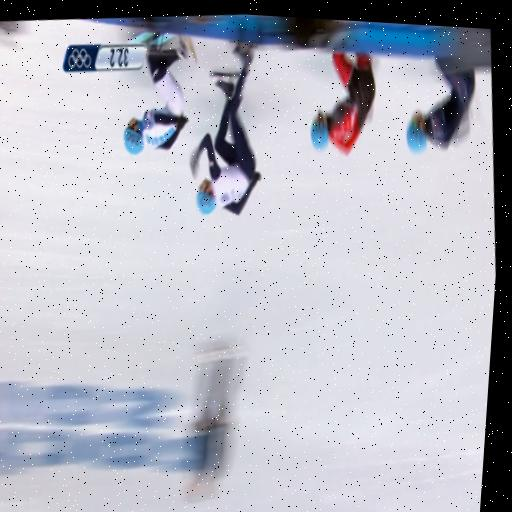Skater: (189, 44, 260, 213), (123, 39, 187, 154), (310, 52, 375, 154), (406, 57, 474, 152)
